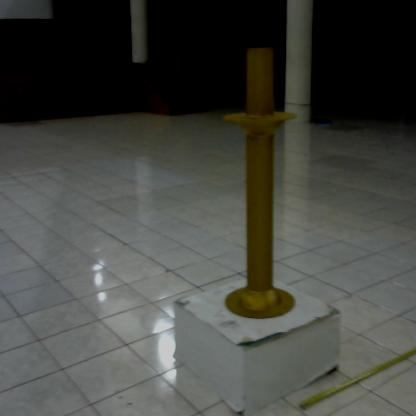pole: (220, 44, 303, 328)
